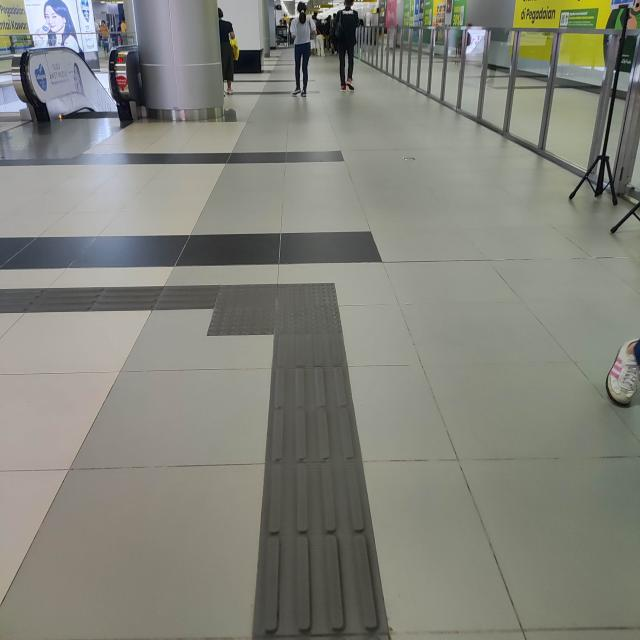kiri: (140, 262, 356, 380)
